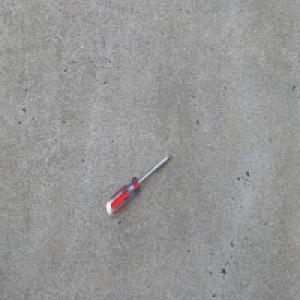Screwdriver: (105, 153, 172, 216)
